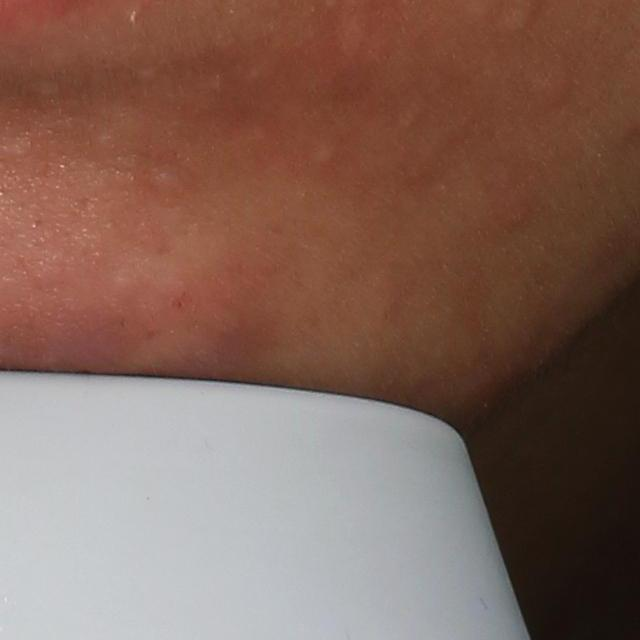comedo: (528, 63, 581, 114), (306, 140, 343, 174), (503, 1, 541, 32)
